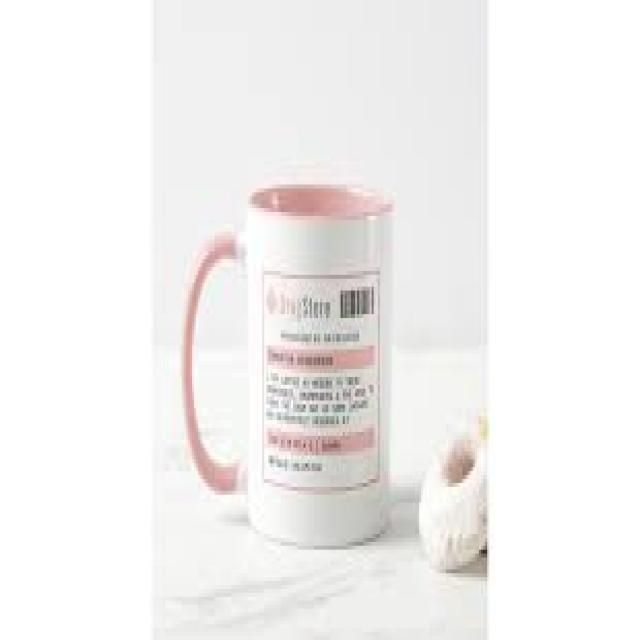taza: (162, 186, 428, 554)
